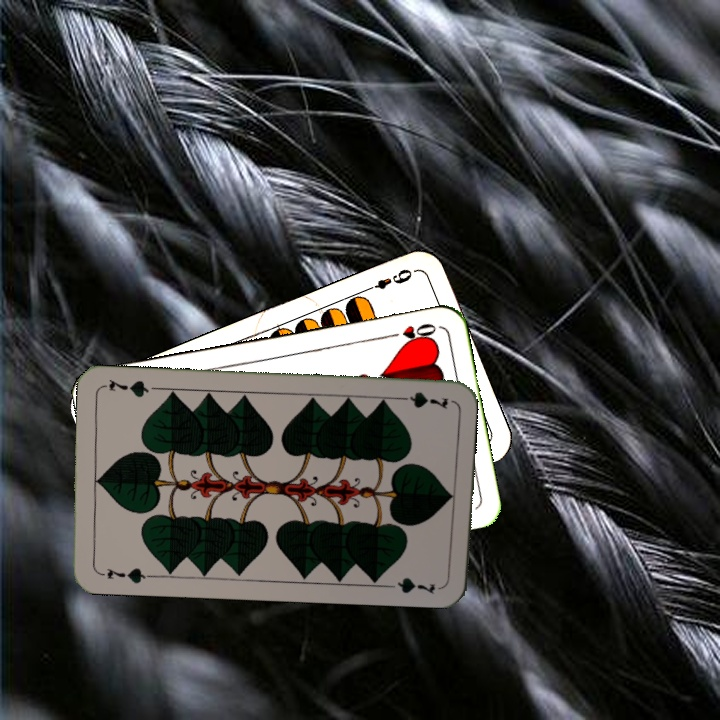E9: (361, 265, 415, 295)
G7: (392, 387, 451, 412), (94, 564, 153, 586)
HO: (382, 319, 439, 344)
